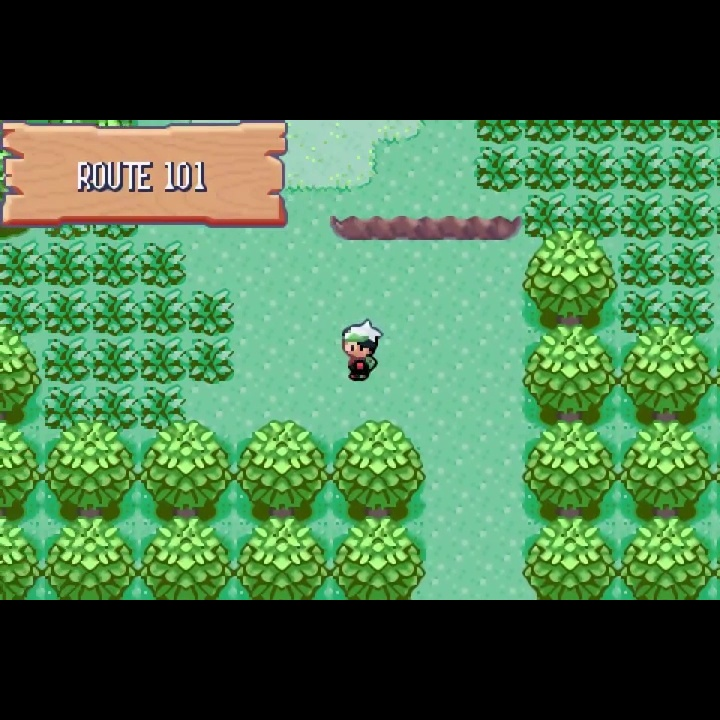grass: (187, 285, 237, 339), (42, 383, 93, 434), (666, 240, 716, 292), (186, 334, 236, 384), (617, 240, 667, 290), (92, 384, 141, 434), (89, 335, 139, 384), (90, 288, 140, 337), (138, 240, 188, 289), (666, 290, 715, 340), (618, 191, 667, 240), (139, 335, 187, 385), (139, 289, 189, 337), (43, 240, 91, 290), (475, 145, 525, 193), (92, 240, 139, 291), (44, 288, 92, 336), (571, 192, 619, 240), (43, 336, 90, 385), (523, 145, 570, 194), (668, 191, 715, 240), (618, 290, 666, 337), (619, 145, 667, 192), (667, 145, 715, 192), (140, 386, 189, 432), (570, 146, 618, 192), (525, 194, 570, 240), (1, 240, 43, 289), (1, 287, 44, 334), (619, 120, 667, 146), (523, 120, 571, 145), (667, 120, 715, 145), (571, 120, 620, 144), (475, 120, 523, 144)
npc: (338, 316, 384, 382)
wall: (521, 227, 619, 334), (518, 421, 619, 524), (619, 323, 720, 424), (618, 421, 720, 519), (519, 325, 618, 422), (331, 419, 426, 519), (234, 420, 330, 518), (138, 421, 235, 516), (45, 418, 139, 514), (619, 517, 720, 601), (234, 516, 332, 600), (137, 515, 234, 599), (43, 515, 138, 600), (522, 517, 618, 599), (332, 517, 426, 599), (1, 324, 45, 421), (1, 416, 44, 514), (1, 514, 45, 599)
